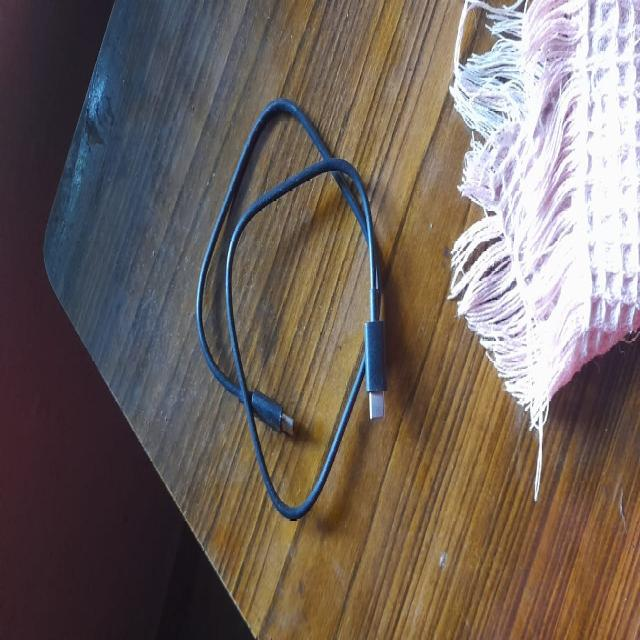Charger - Recyclable: (194, 95, 388, 521)
